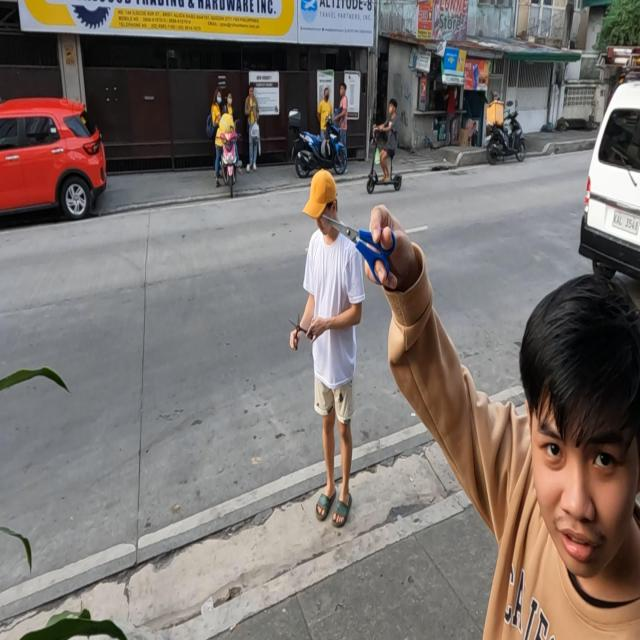scissor: (322, 215, 396, 284), (288, 313, 314, 351)
